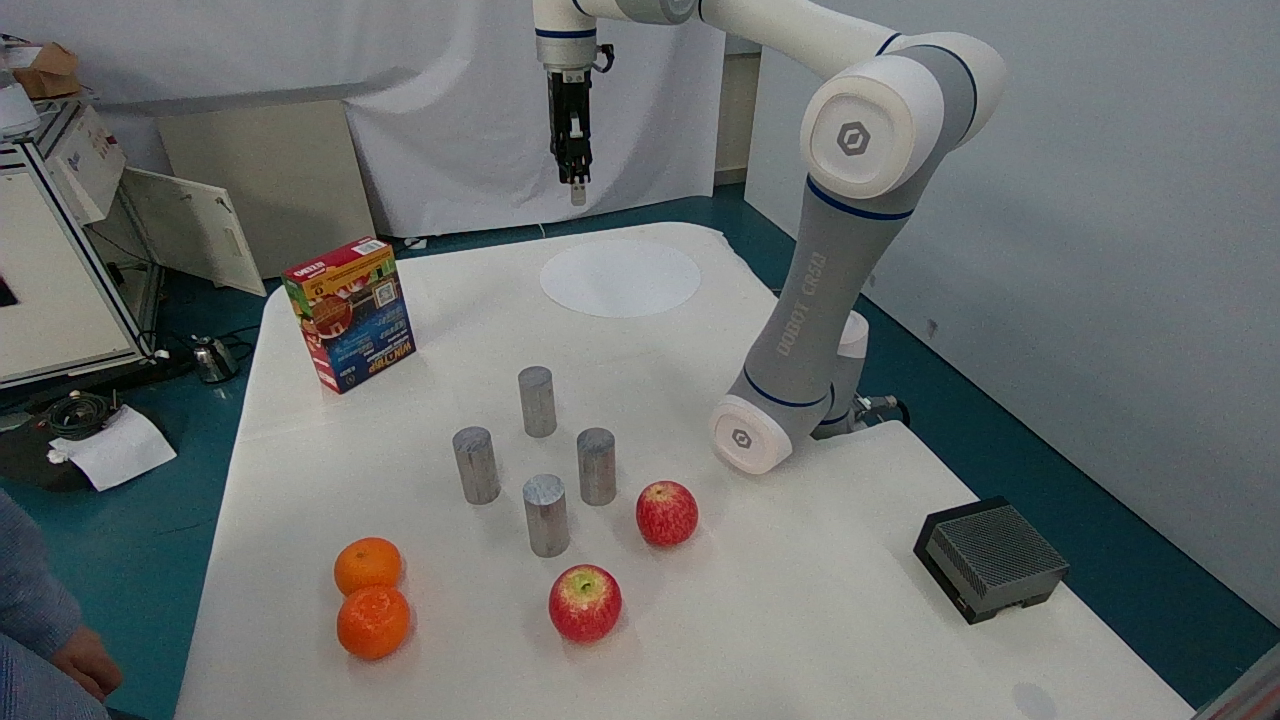apple: (545, 546, 636, 644), (608, 474, 715, 552)
metal rod: (433, 414, 505, 512), (511, 464, 578, 562), (572, 419, 634, 513), (498, 354, 564, 441)
orange: (316, 578, 445, 666), (320, 515, 423, 602)
